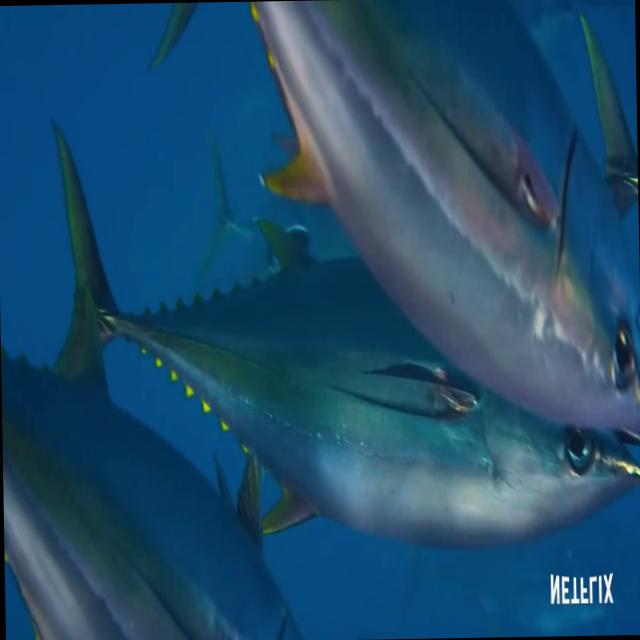fish: (45, 120, 640, 548), (147, 0, 640, 451), (0, 352, 311, 640)
